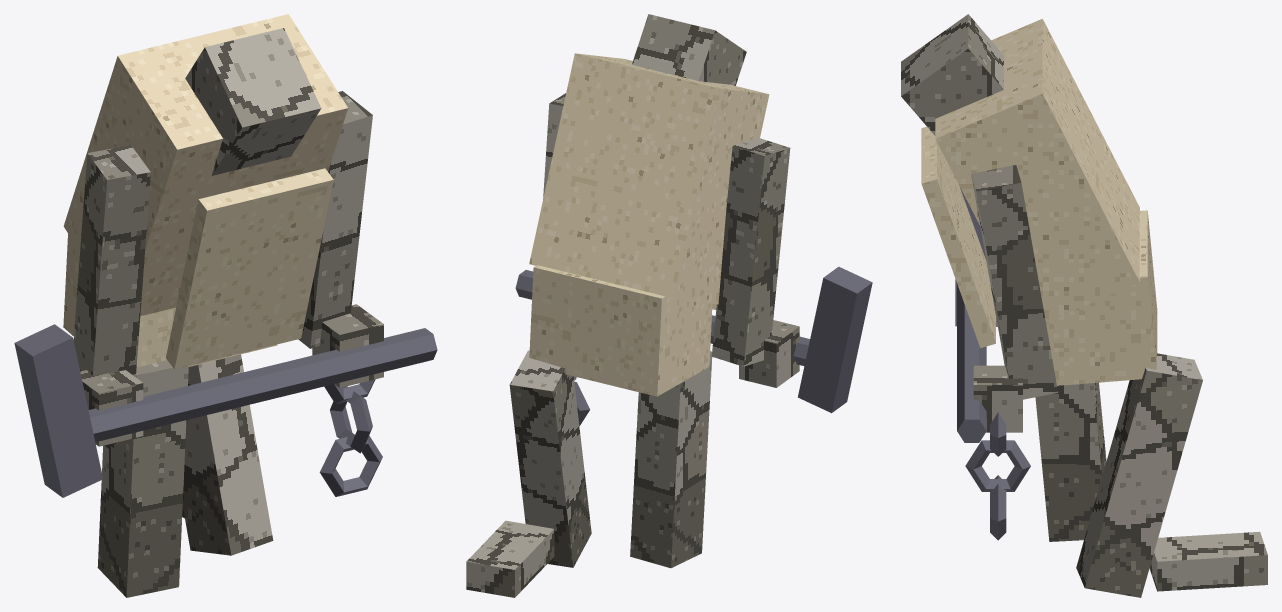
The model's file is dead_worker_lowpoly.glb.
The picture shows the model from 3 angles, left to right: view 1: azimuth 30°, elevation 25°; view 2: azimuth 150°, elevation 25°; view 3: azimuth 270°, elevation 25°; orthographic projection. The views are drawn at different scales.
Visible parts, largest first — view 1: broken_back, torn_apron, limp_arm_1, planted_leg, bowed_head, dragging_leg, mattock_handle, mattock_head, limp_arm_0, hips, hand_0, hand_1 (+3 smaller); view 2: broken_back, hips, planted_leg, limp_arm_1, dragging_leg, mattock_head, bowed_head, dragging_foot, hand_1, mattock_handle, limp_arm_0; view 3: broken_back, dragging_leg, limp_arm_0, hips, planted_leg, bowed_head, torn_apron, dragging_foot, mattock_handle, hand_0, wrist_chain_1, wrist_chain_2 (+1 smaller).
Part boxes in pixels (x1,y1,x2,y2): broken_back: (63, 14, 348, 315); torn_apron: (166, 168, 333, 369); limp_arm_1: (73, 145, 150, 376); planted_leg: (97, 360, 188, 597); bowed_head: (185, 28, 321, 175); dragging_leg: (182, 354, 273, 555); mattock_handle: (88, 328, 437, 442); mattock_head: (14, 324, 102, 497); limp_arm_0: (298, 91, 372, 348); hips: (63, 234, 277, 367); hand_0: (312, 304, 383, 387); hand_1: (80, 370, 143, 446); broken_back: (529, 53, 769, 304); hips: (529, 265, 712, 396); planted_leg: (630, 351, 712, 568); limp_arm_1: (711, 137, 790, 366); dragging_leg: (509, 350, 591, 567); mattock_head: (797, 266, 872, 413); bowed_head: (632, 14, 746, 85); dragging_foot: (466, 520, 554, 597); hand_1: (739, 320, 799, 387); mattock_handle: (515, 270, 809, 365); limp_arm_0: (543, 93, 565, 198); broken_back: (935, 19, 1139, 322); dragging_leg: (1076, 353, 1202, 597); limp_arm_0: (971, 165, 1057, 399); hips: (1046, 210, 1157, 385); planted_leg: (1035, 382, 1106, 541); bowed_head: (901, 14, 1003, 135); torn_apron: (921, 126, 995, 348); dragging_foot: (1149, 531, 1267, 591); mattock_handle: (957, 283, 986, 442); hand_0: (973, 365, 1022, 432); wrist_chain_1: (965, 440, 1030, 491); wrist_chain_2: (990, 475, 1006, 540).
Size of what is drawn, in the model's own units: 1.28 by 1.78 by 1.12.
3 materials, 2 textured.
